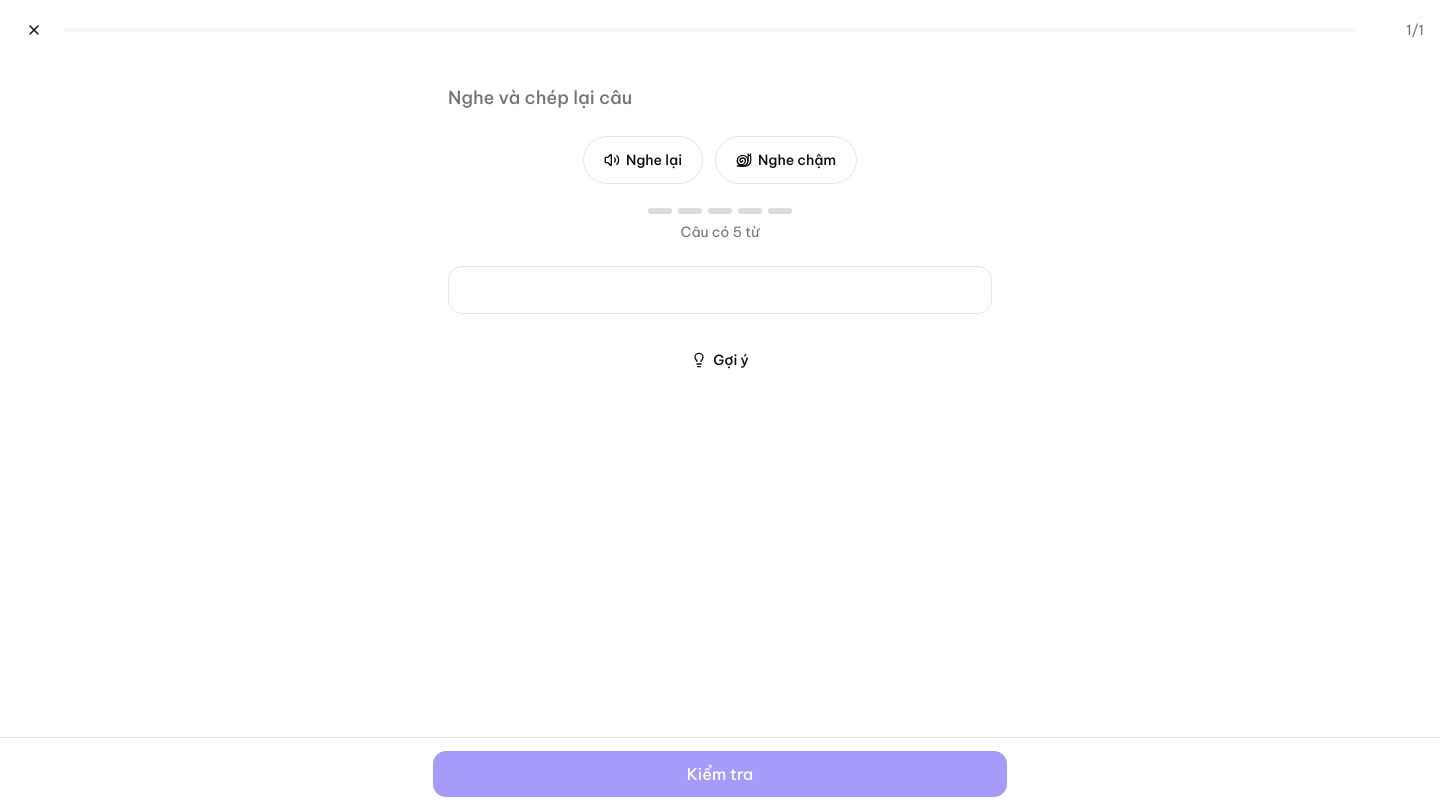
Test: dictation (feature 010) › marks each word after a wrong answer, with a Vietnamese summary (AC-008, AC-009)
Type "she work at hospital" into the field named "Câu bạn nghe được" at (720, 290), box [448,266,992,314]
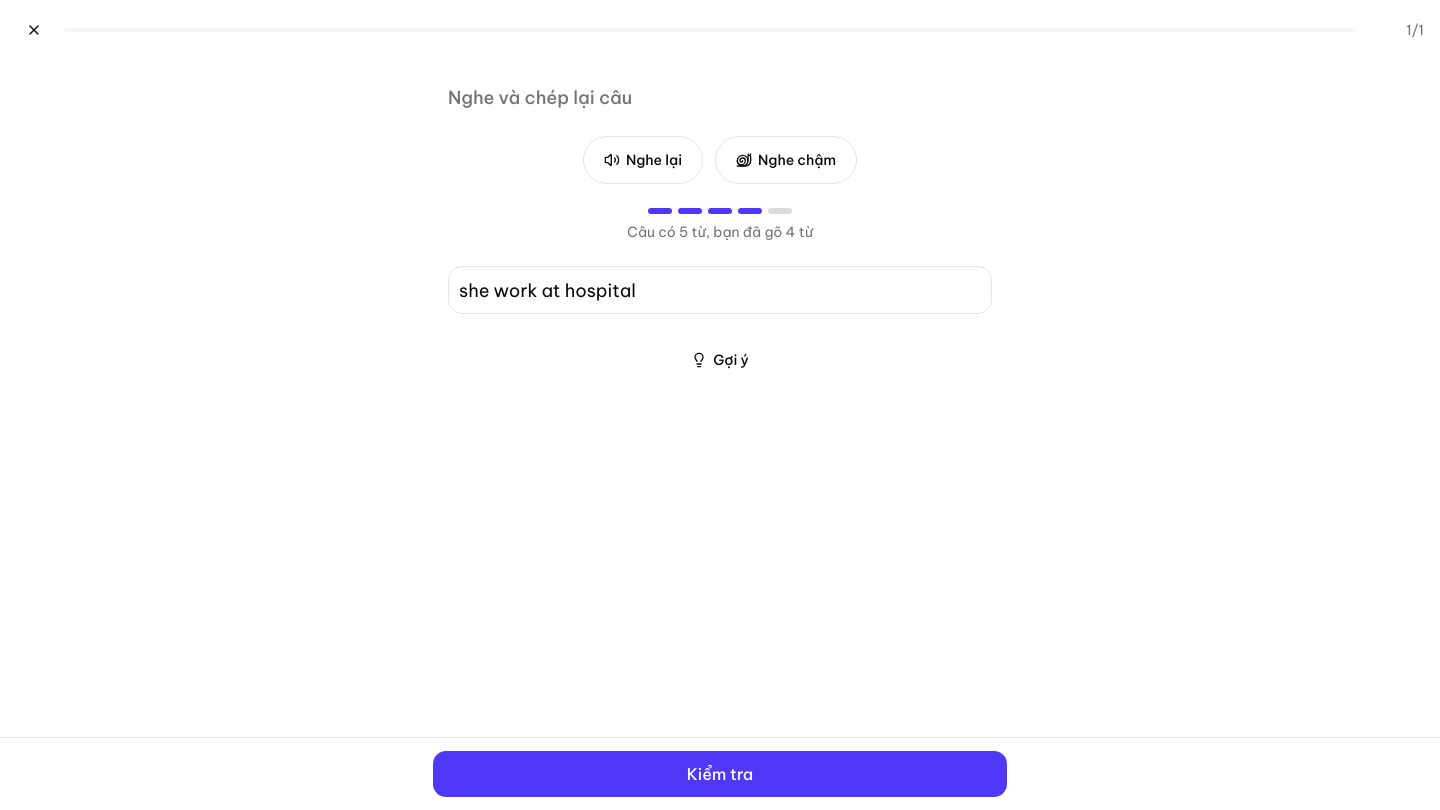
Click the button "Kiểm tra" at (720, 774), box [432,750,1008,798]
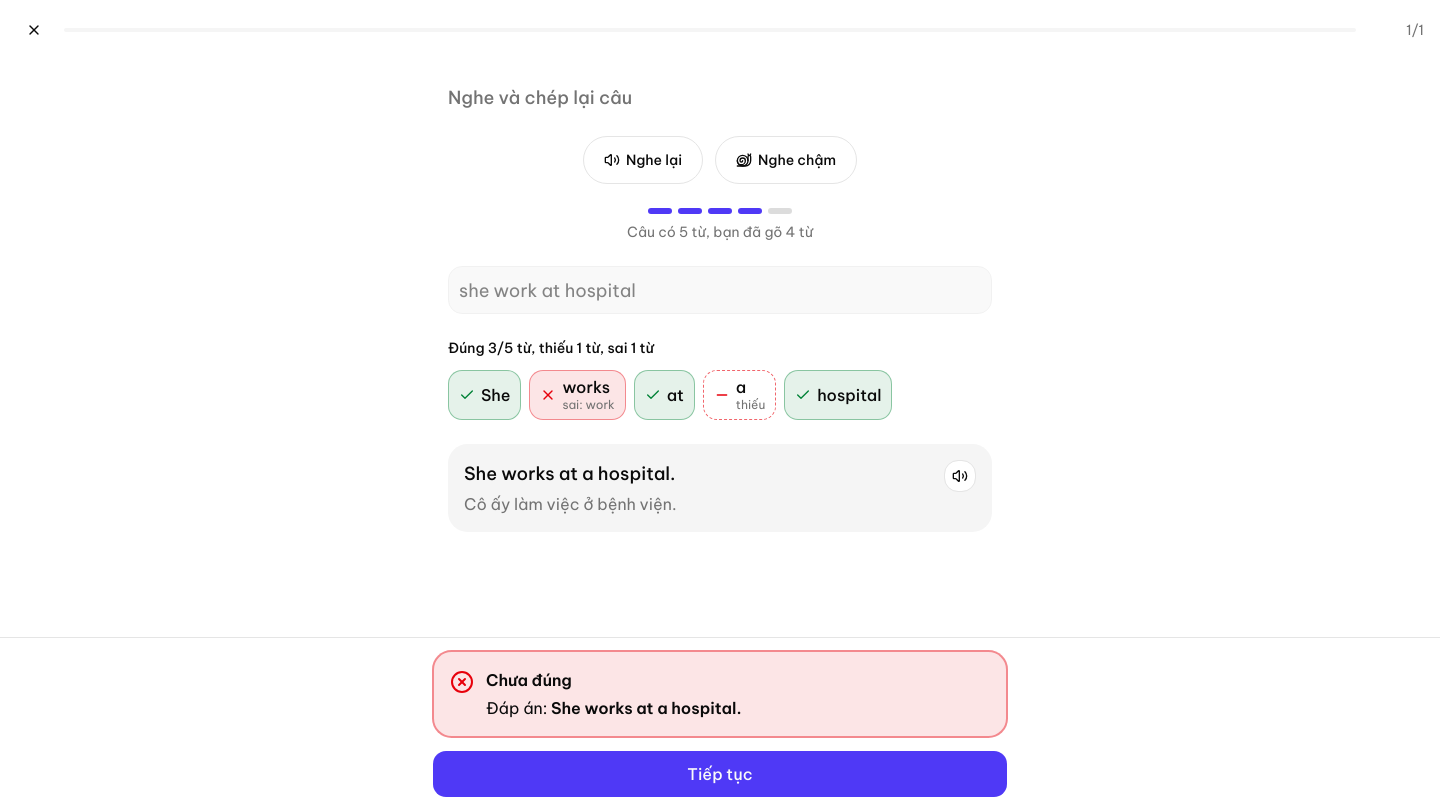
Expected: the element "Đúng 3/5 từ, thiếu 1 từ, sai 1 từ" is shown, [448,339,892,420]
Expected: the text "thiếu" is shown, [736,397,765,413]
Expected: the text "work" is shown, [586,397,615,412]
